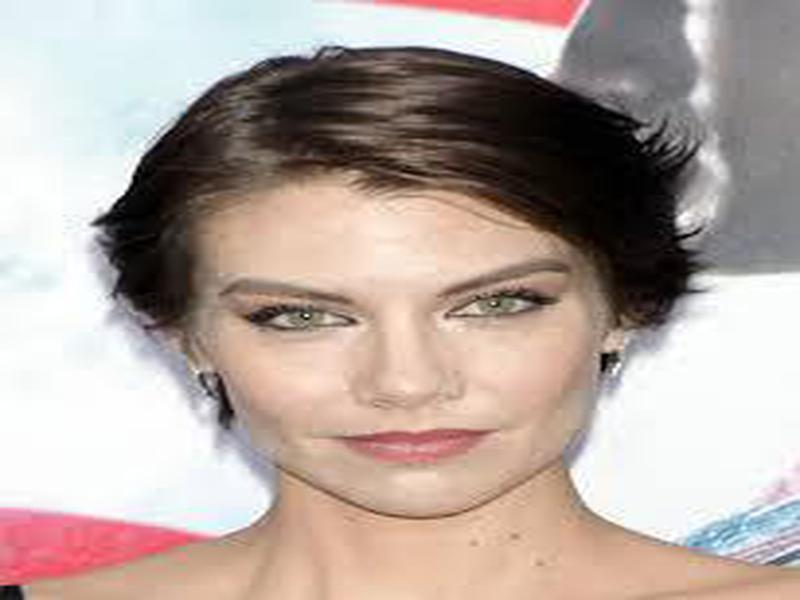without_mask: (187, 212, 606, 516)
